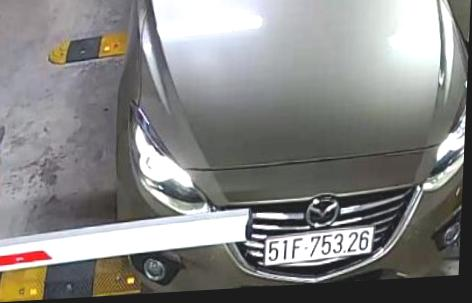License_Plate: (263, 227, 375, 263)
